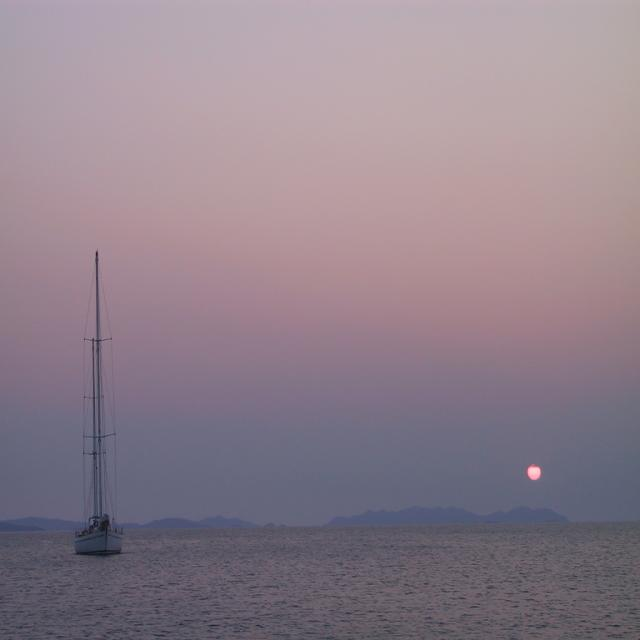Boat: (52, 257, 136, 576)
